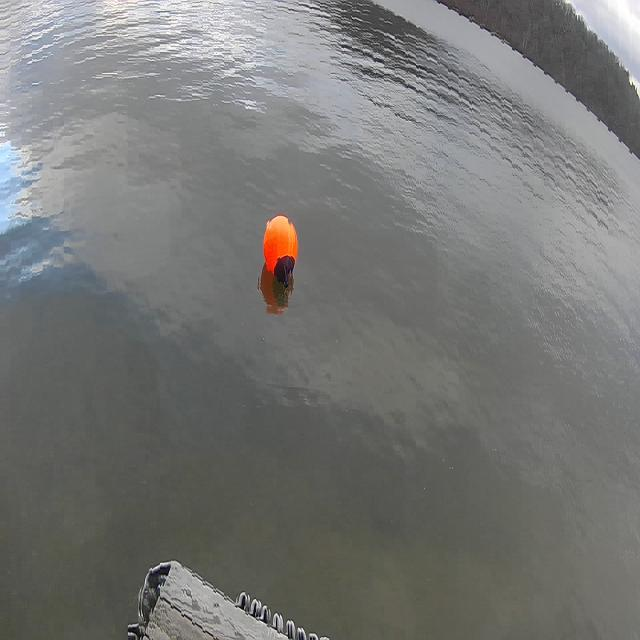Buoy: (260, 205, 304, 292)
